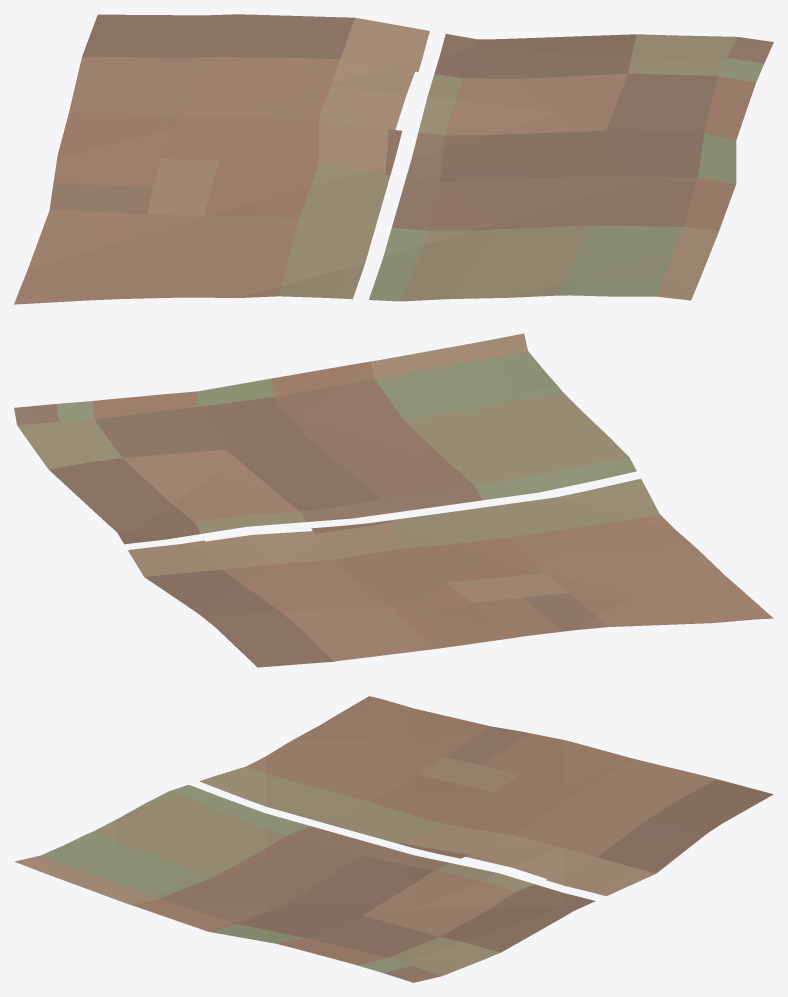
The model's file is farm_-7_6_soil.glb.
3 renders of one model, top to bottom at view 1: azimuth 30°, elevation 25°; view 2: azimuth 150°, elevation 25°; view 3: azimuth 270°, elevation 25°, orthographic. The views are drawn at different scales.
Parts seen in each view (by area): view 1: geometry_0; view 2: geometry_0; view 3: geometry_0.
Part boxes in pixels (left/top/right/bottom): geometry_0: left=14, top=14, right=773, bottom=304; geometry_0: left=14, top=333, right=773, bottom=667; geometry_0: left=14, top=696, right=773, bottom=982.
Size of the model in its own units: 422 by 26.72 by 408.
